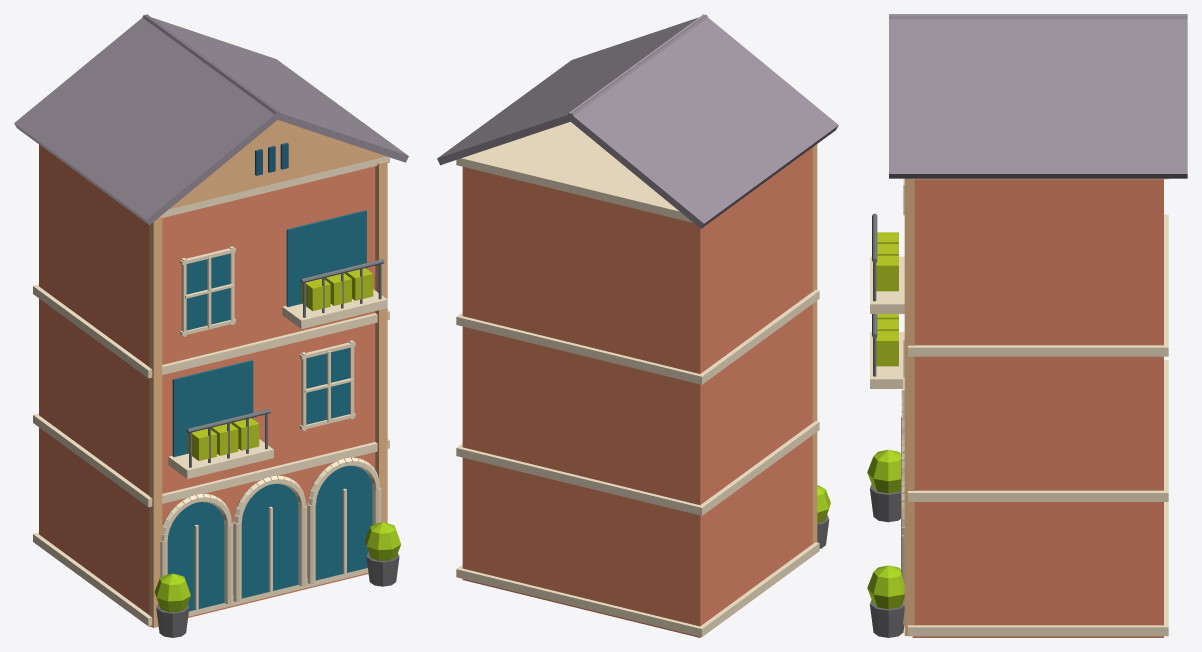
The model's file is Building_Coral_Balconies.glb.
3 renders of one model, left to right at view 1: azimuth 30°, elevation 25°; view 2: azimuth 150°, elevation 25°; view 3: azimuth 270°, elevation 25°, orthographic. The views are drawn at different scales.
Visible parts, largest first — view 1: Building_Coral_Balconies; view 2: Building_Coral_Balconies; view 3: Building_Coral_Balconies.
Boxes of the visible parts, box(x1,y1,x2,y2) form: Building_Coral_Balconies: box(14, 14, 408, 637); Building_Coral_Balconies: box(437, 14, 838, 637); Building_Coral_Balconies: box(867, 14, 1187, 637).
Bounding box in the file's own units: 4.5 × 8.11 × 4.21.
